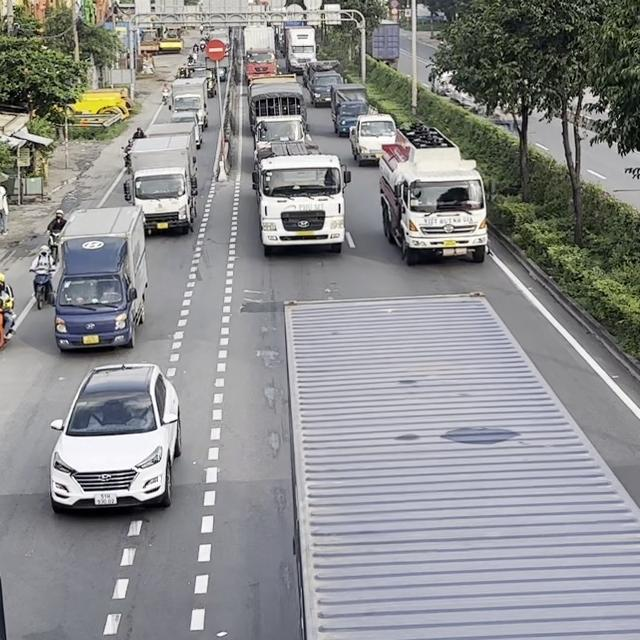car: (48, 362, 182, 514)
motorcycle: (28, 267, 56, 309), (46, 230, 61, 264)
truck: (283, 290, 639, 639), (377, 122, 489, 265), (48, 205, 148, 351), (248, 142, 350, 255), (122, 133, 198, 235), (246, 81, 310, 163), (348, 113, 398, 165), (168, 76, 209, 130), (330, 84, 371, 138), (242, 26, 278, 84), (305, 61, 345, 108), (284, 24, 317, 73)
